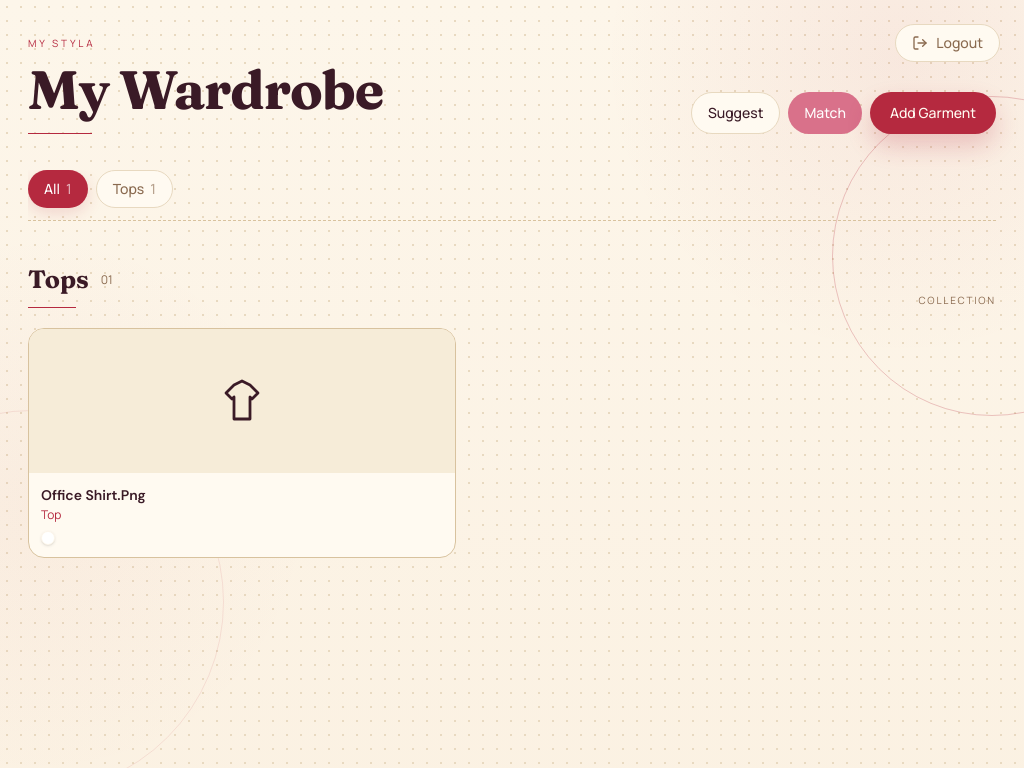
Outfit matcher › generates outfits when weather API is unavailable
Click the button "Match".
click(825, 113)  # box [788, 92, 862, 134]
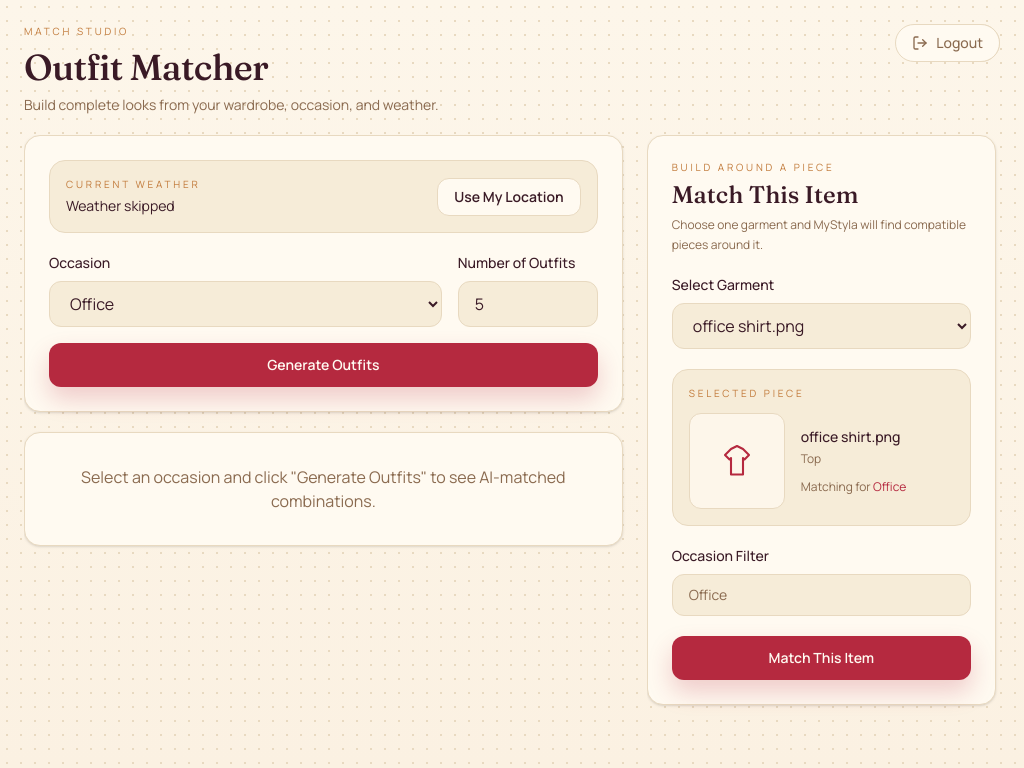
Expected: the text "Weather skipped" is shown, [66, 196, 175, 215]
Click the button "Generate Outfits".
click(324, 365)  # box [49, 343, 598, 387]
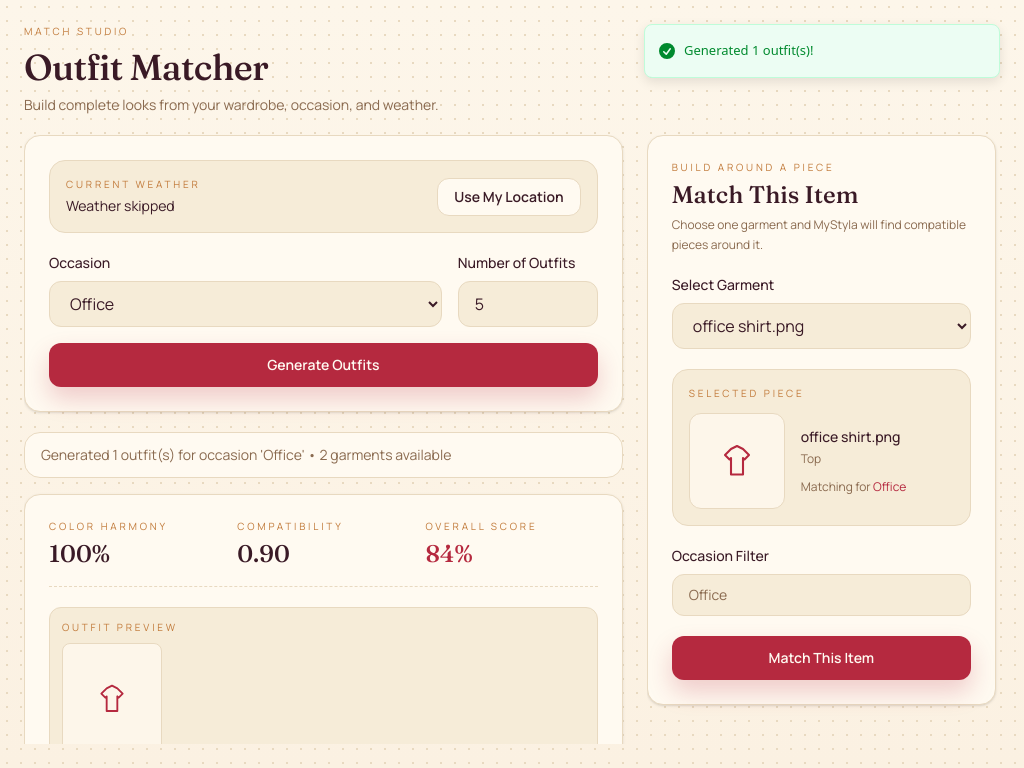
Expected: the text "Generated 1 outfit" is shown, [684, 41, 813, 59]
